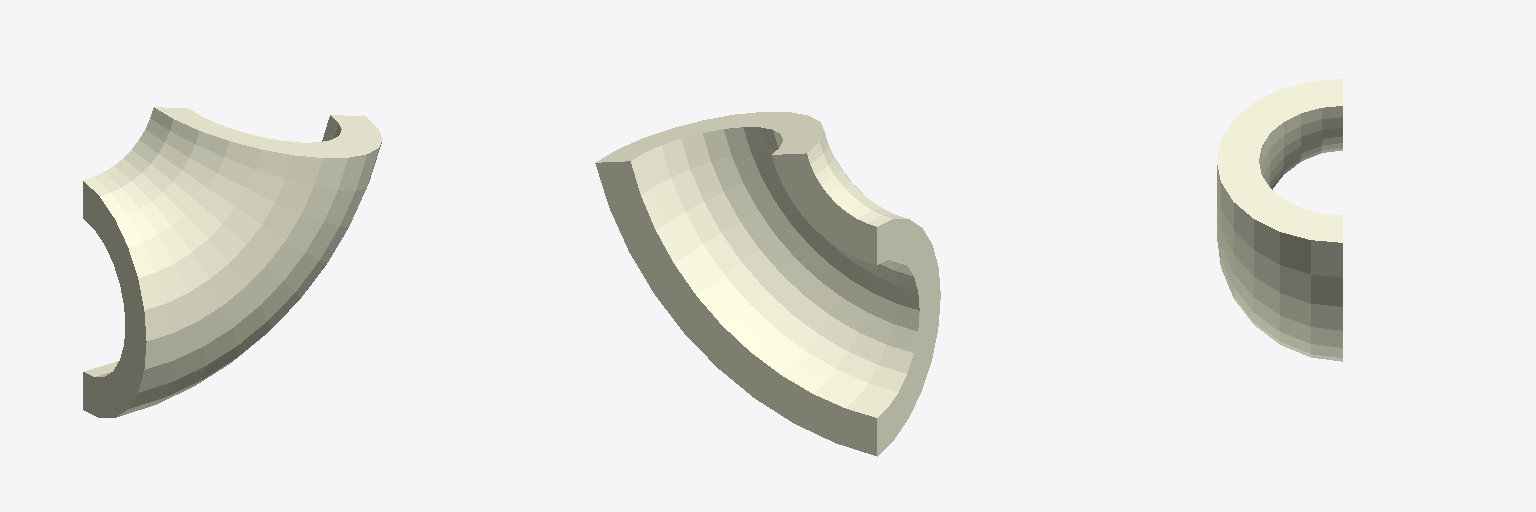
Rendered from section_016.obj.
3 renders of one model, left to right at view 1: azimuth 30°, elevation 25°; view 2: azimuth 150°, elevation 25°; view 3: azimuth 270°, elevation 25°, orthographic.
Size of the model in its own units: 7.71 by 7.47 by 3.